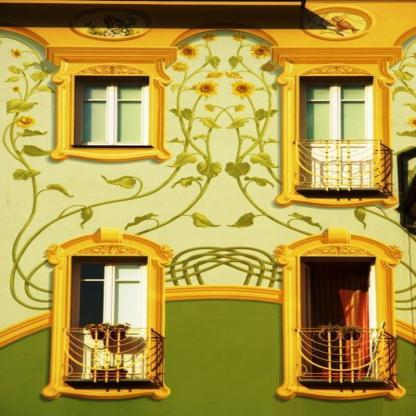Building Outline: (0, 0, 415, 415)
Facade: (0, 0, 415, 415)
Floor: (1, 1, 415, 189), (1, 194, 415, 382)
Floor Slab: (0, 382, 415, 388), (1, 188, 416, 194)
Window: (301, 259, 375, 381), (73, 260, 146, 382), (301, 79, 374, 188), (75, 79, 148, 146)
